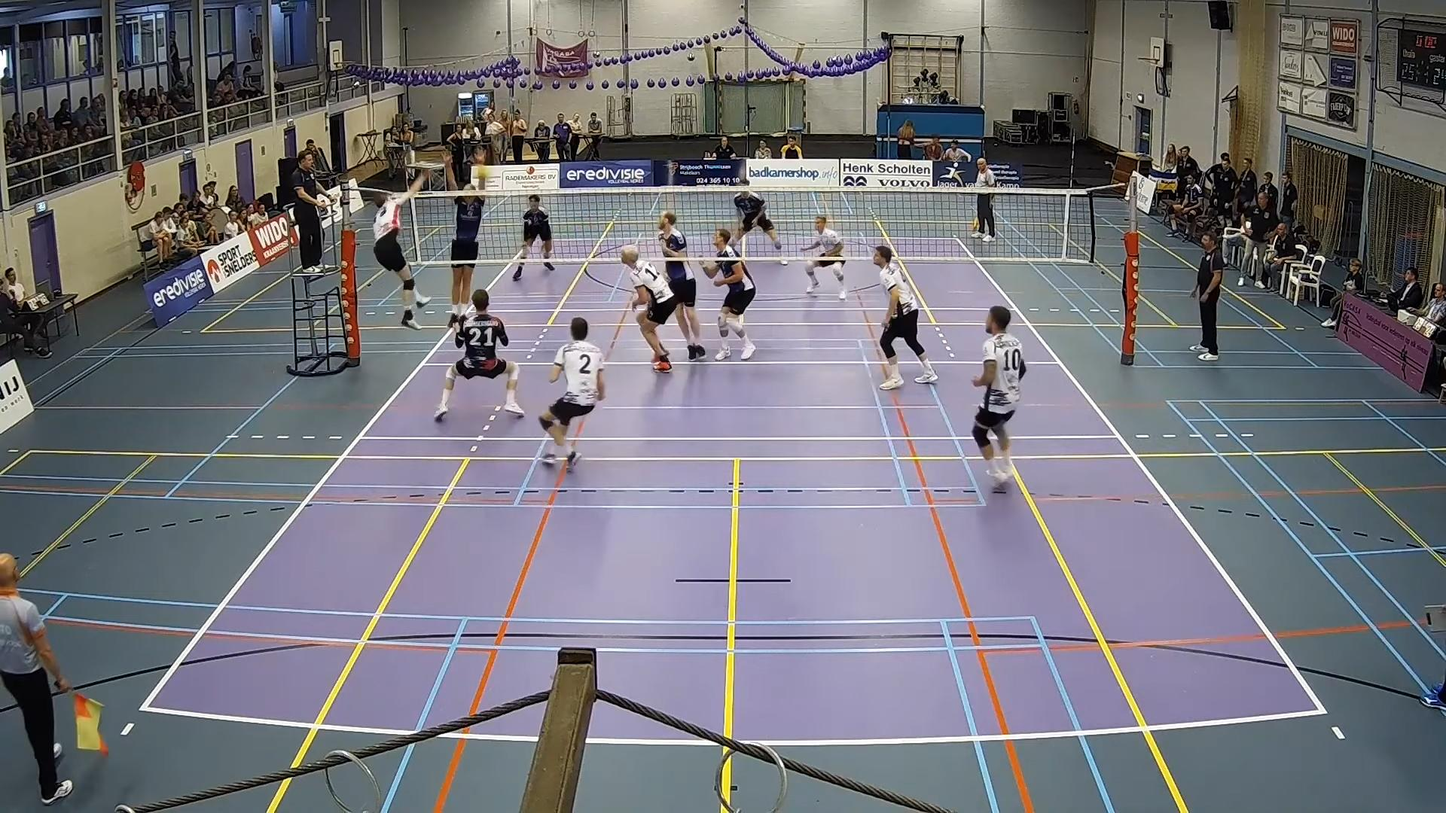attacco: (370, 170, 444, 336)
muro: (441, 144, 490, 327)
